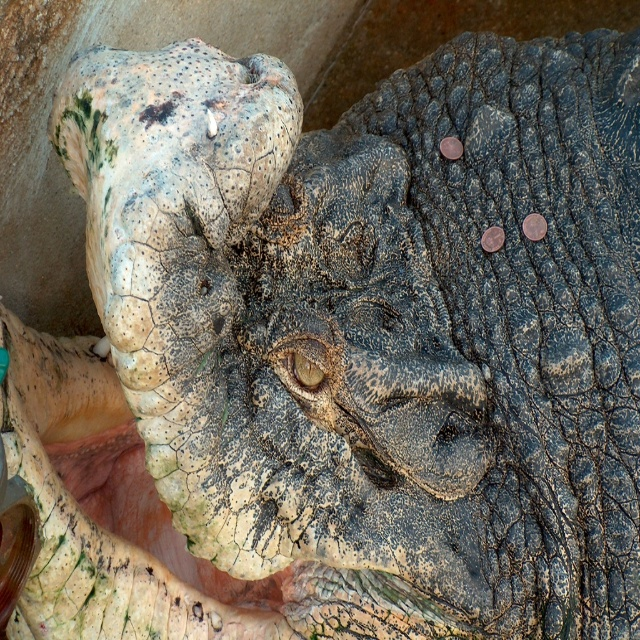Crocodile: (0, 32, 640, 639)
